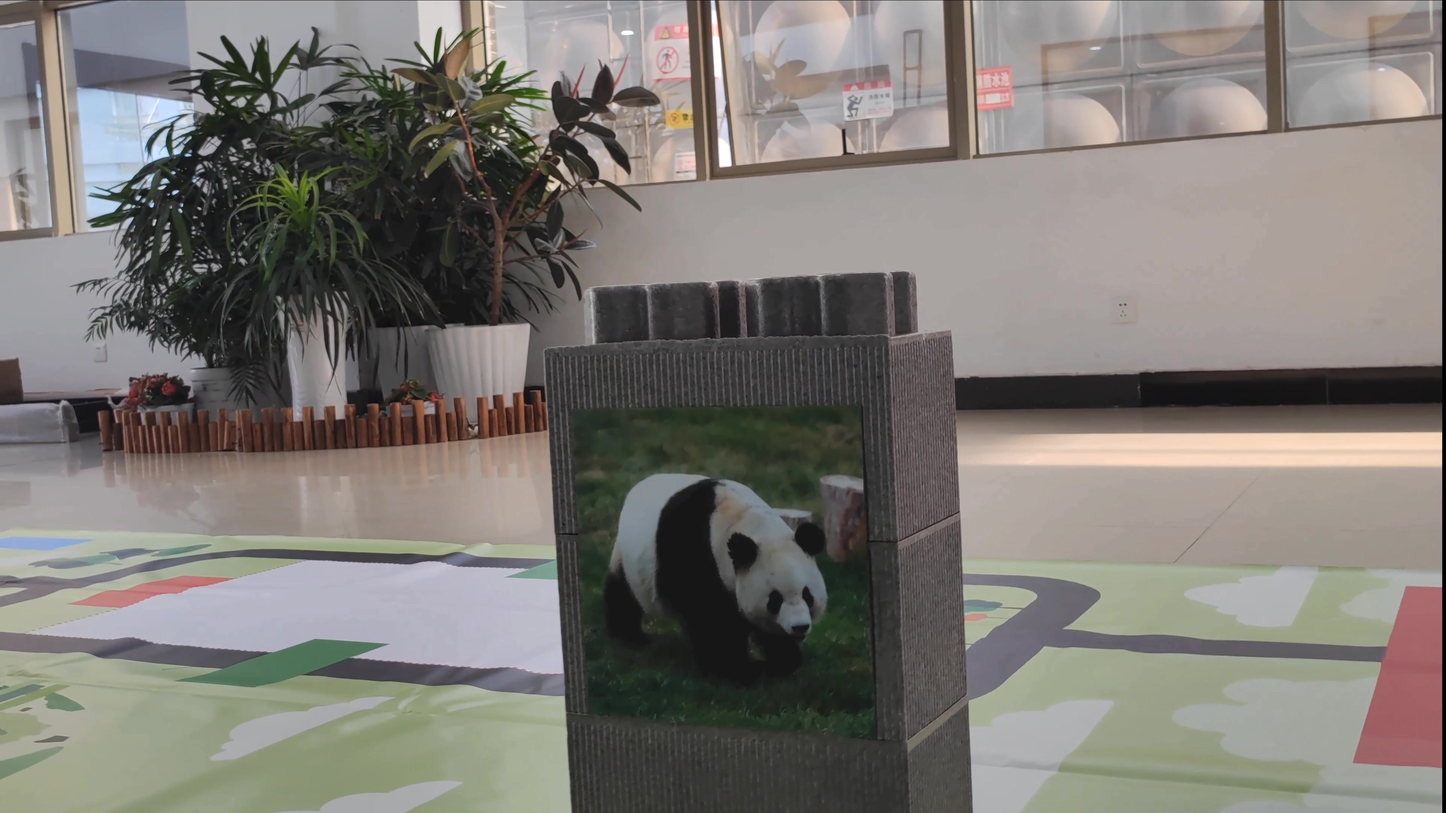panda: (575, 401, 868, 733)
